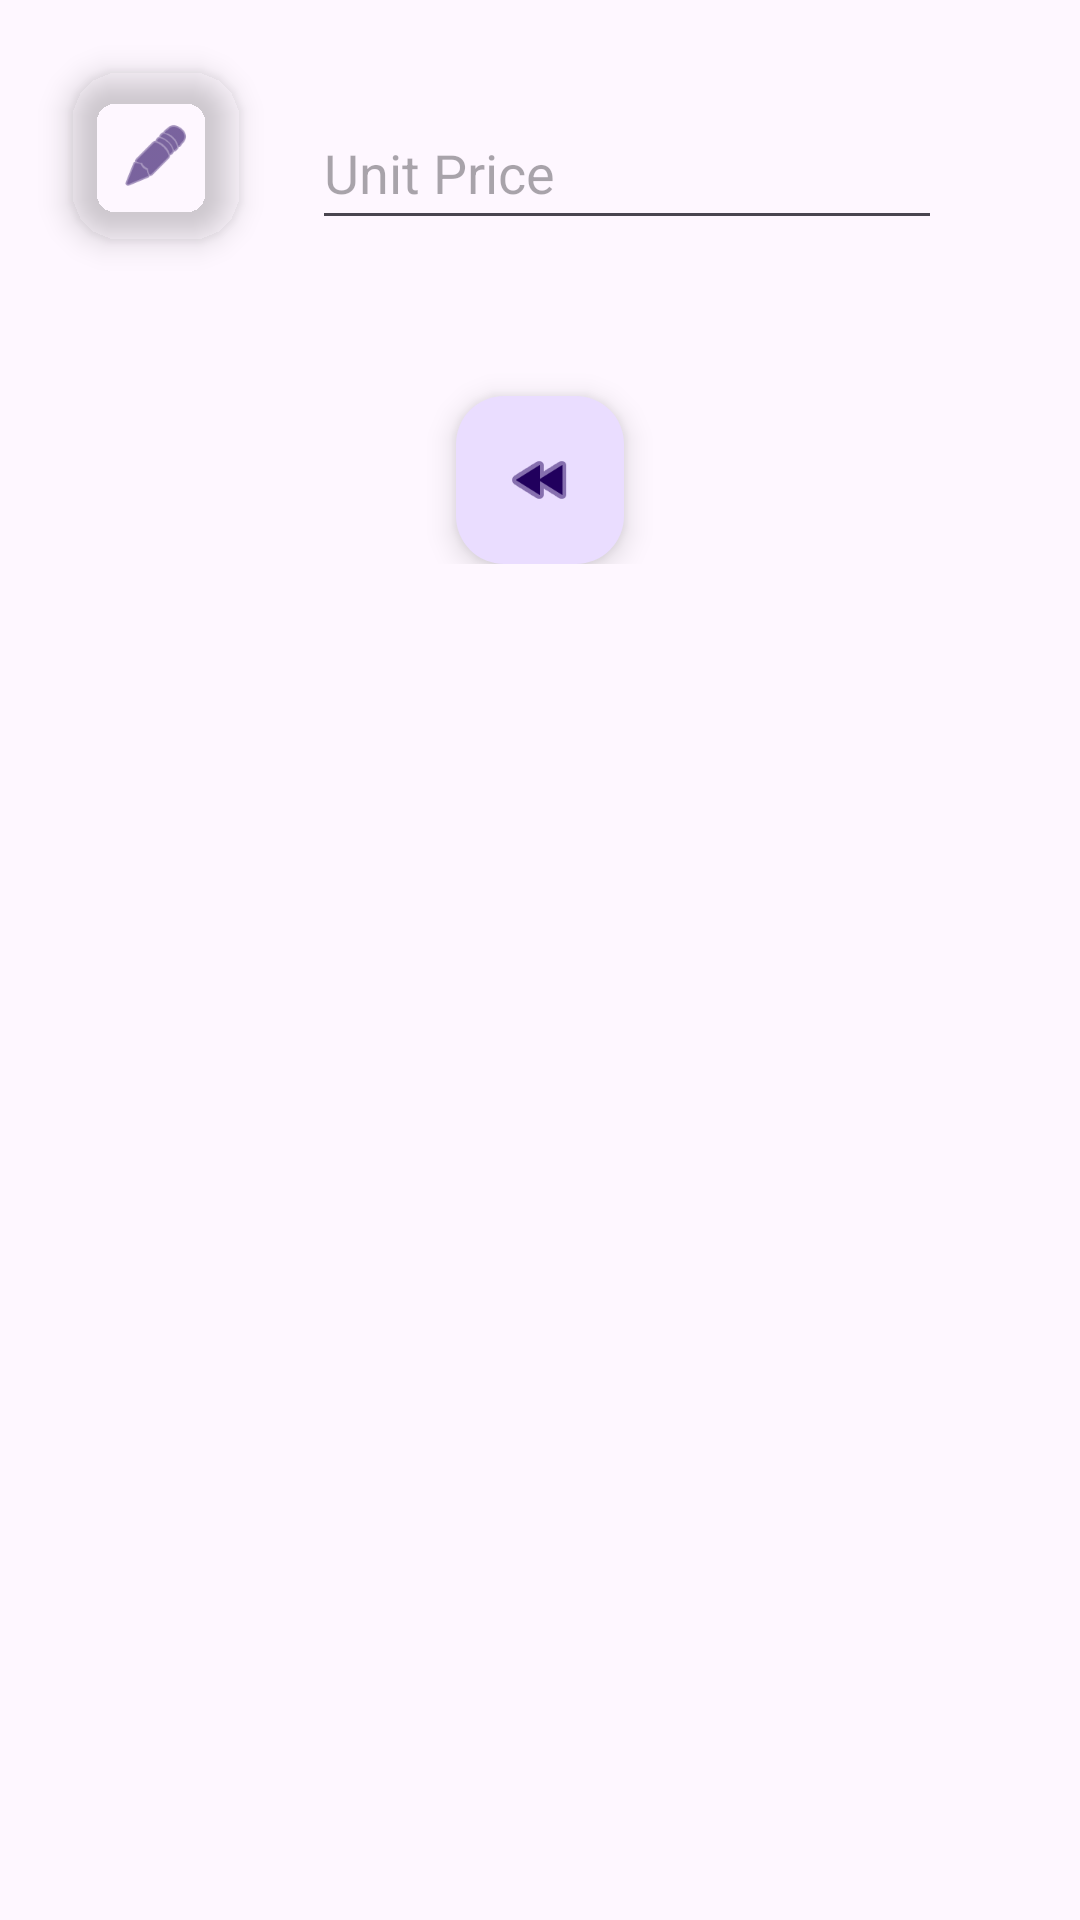

Named icons in this screenshot (1080×1920) and their centers, [x,y]:
edit: [156,156]
rew: [540,480]
